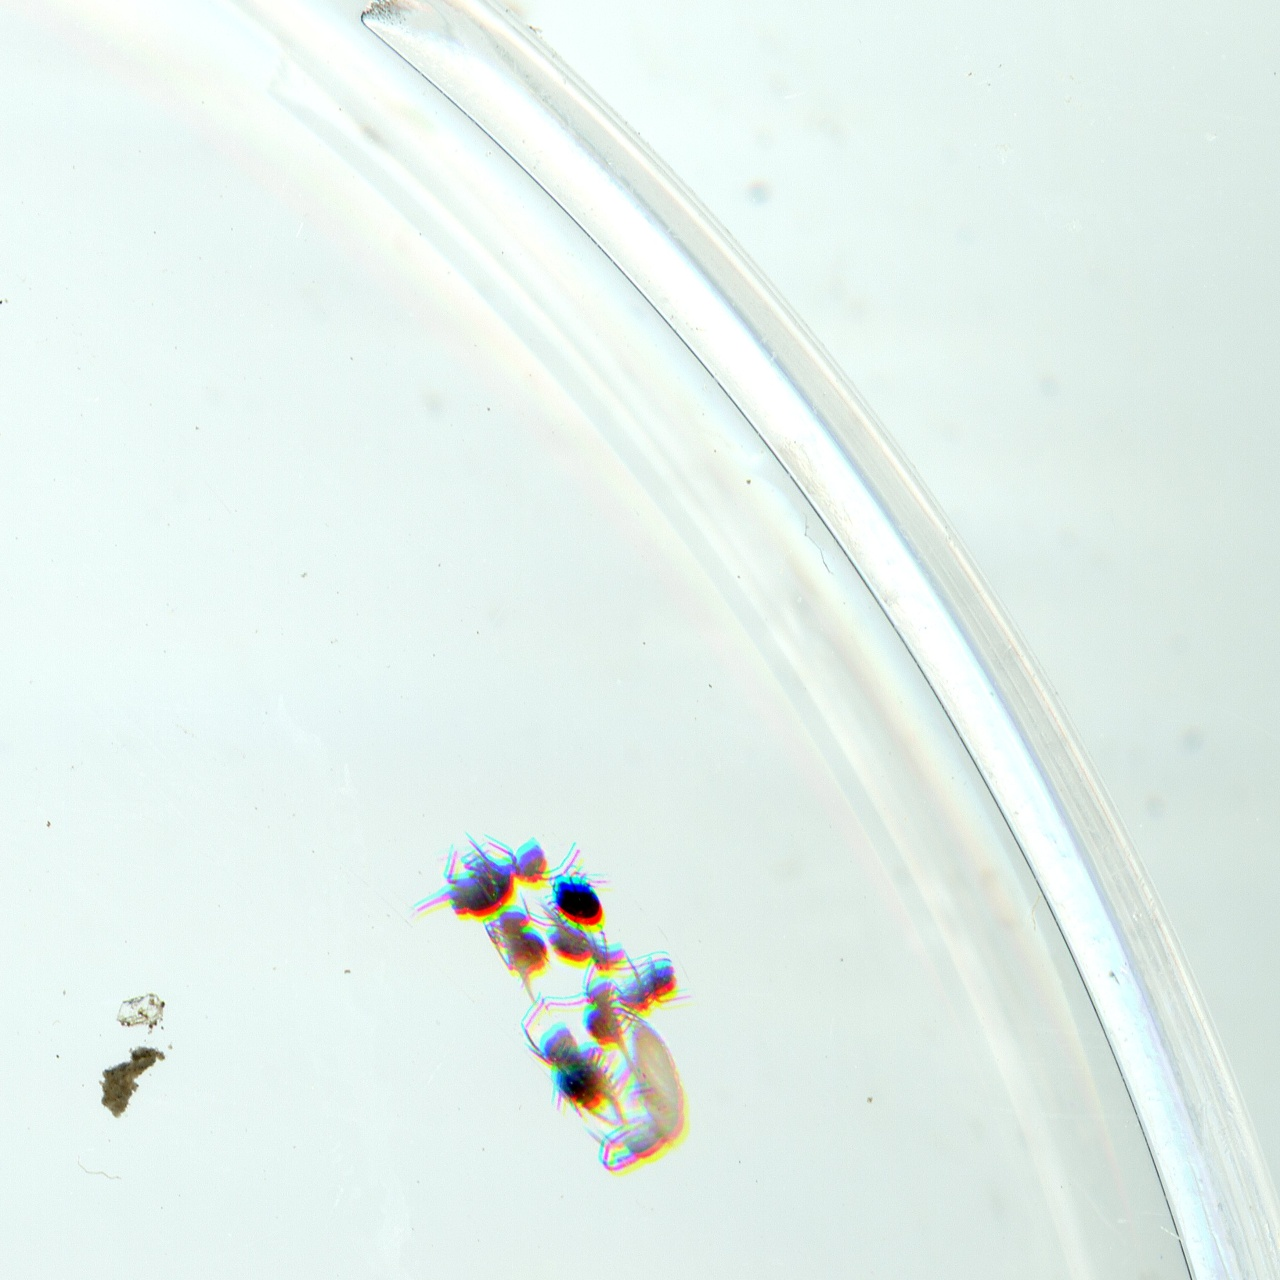arthropod: (375, 783, 598, 956), (502, 973, 639, 1153), (466, 876, 594, 1018), (516, 894, 677, 998), (595, 1016, 694, 1178), (576, 950, 647, 1078), (617, 943, 697, 1017), (544, 867, 616, 936)
